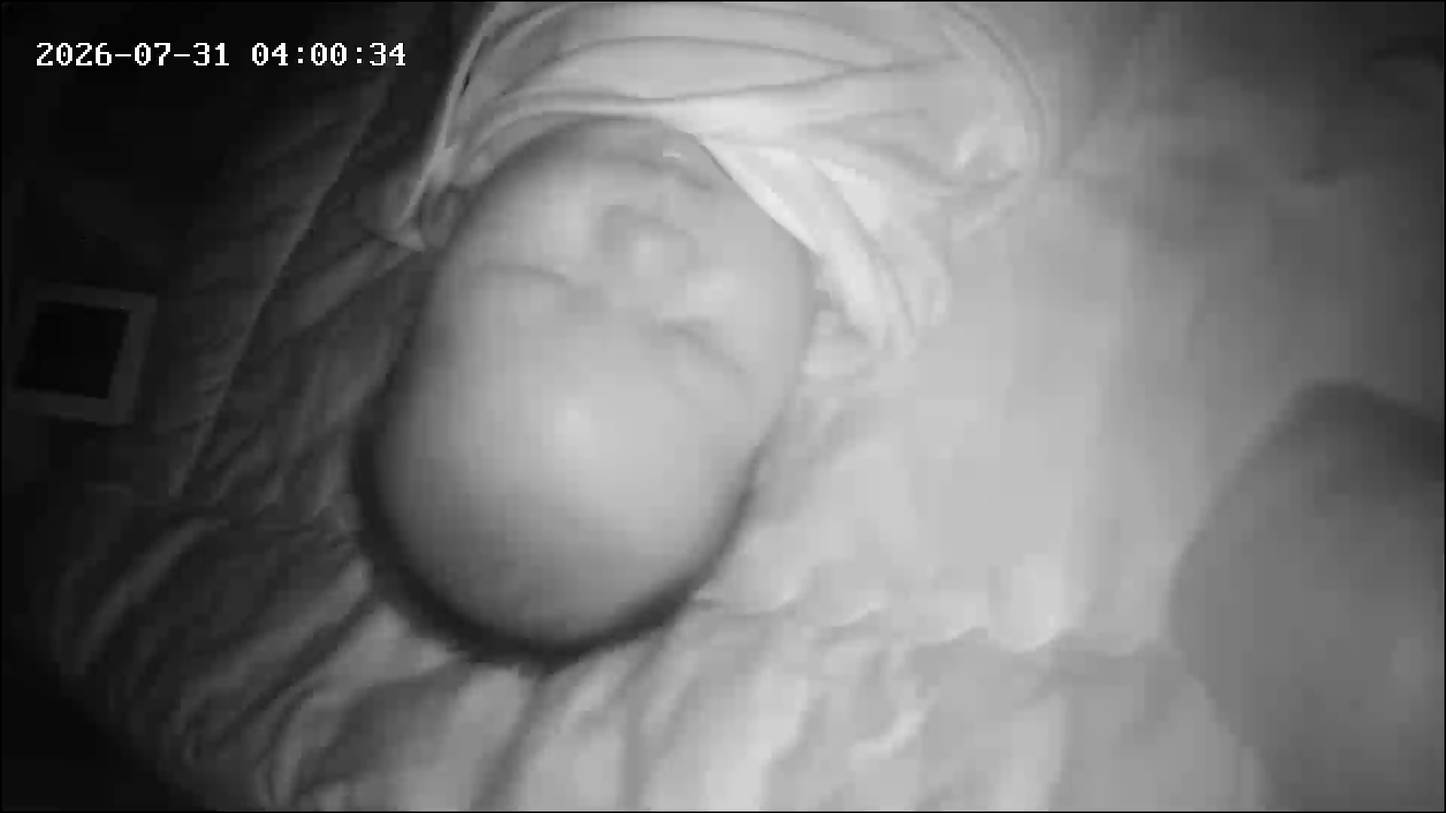baby: (340, 1, 946, 670)
baby_face: (345, 136, 836, 661)
